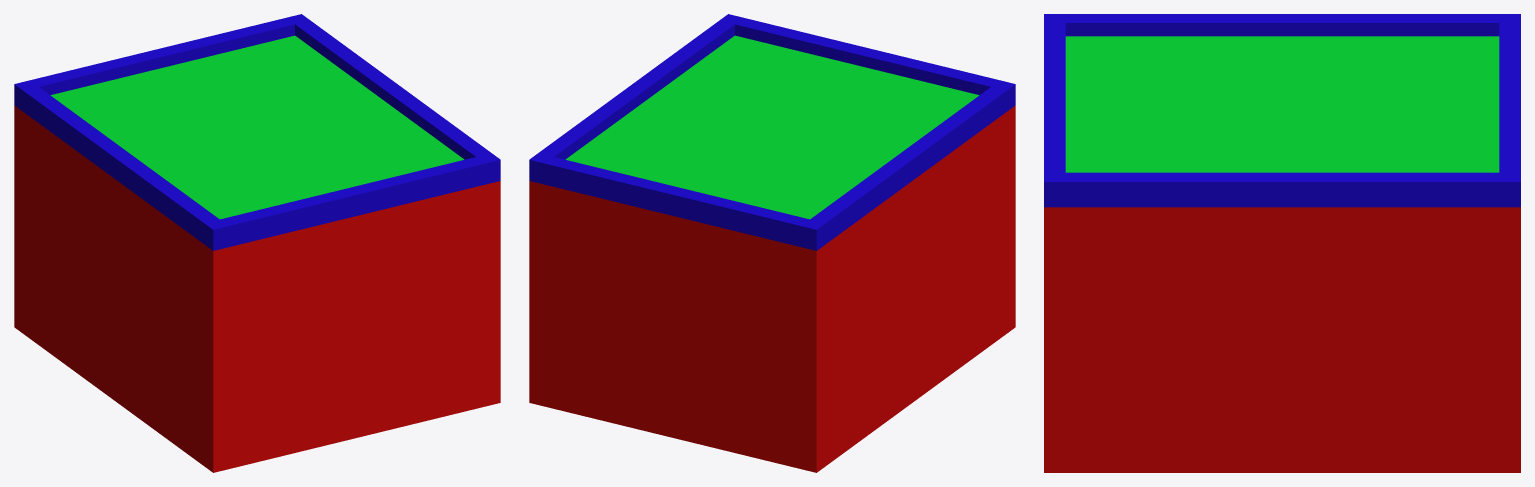
File: Building7.fbx
The picture shows the model from 3 angles, left to right: view 1: azimuth 30°, elevation 25°; view 2: azimuth 150°, elevation 25°; view 3: azimuth 270°, elevation 25°; orthographic projection. The views are drawn at different scales.
Visible parts, largest first — view 1: Cube.006; view 2: Cube.006; view 3: Cube.006.
Boxes of the visible parts, <box> form: Cube.006: <box>14,14,500,472</box>; Cube.006: <box>529,14,1015,472</box>; Cube.006: <box>1044,14,1520,472</box>.
Bounding box in the file's own units: 710 × 574 × 852.
